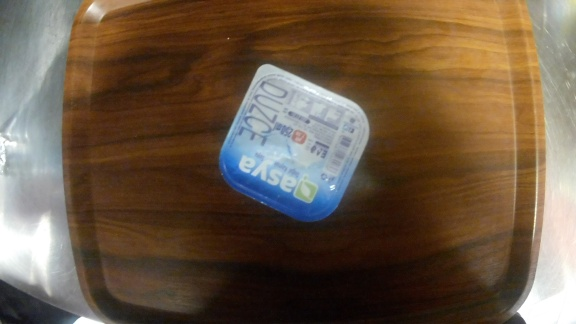kucuksu: (216, 64, 374, 226)
